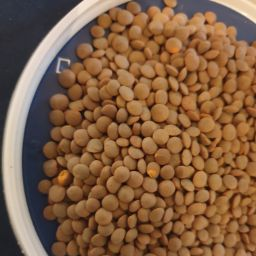Black Lentil(masoor daal): (156, 6, 256, 256), (85, 5, 158, 256), (52, 52, 100, 256)
